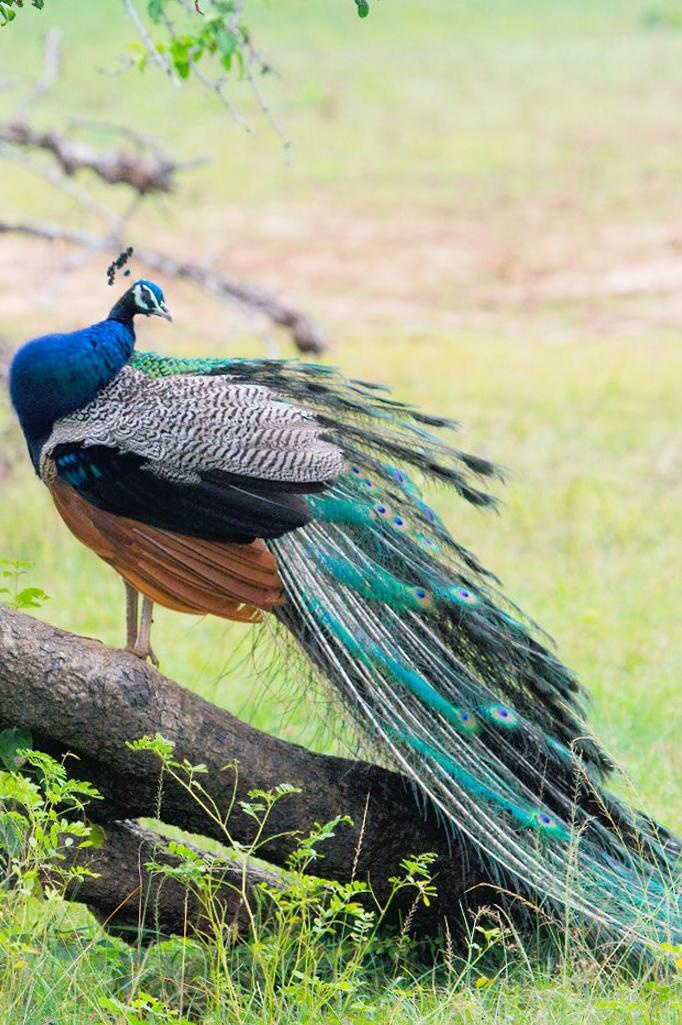peacock: (48, 233, 627, 818)
